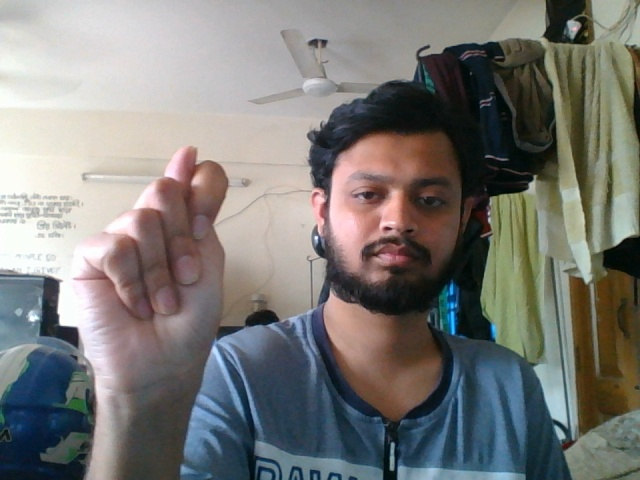ta: (71, 138, 236, 436)
